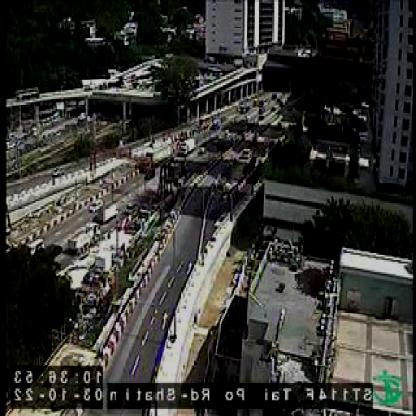Car: (238, 100, 252, 112), (212, 119, 222, 132)
Truck: (142, 142, 174, 175), (69, 222, 101, 253), (99, 201, 121, 224), (181, 139, 196, 154)
